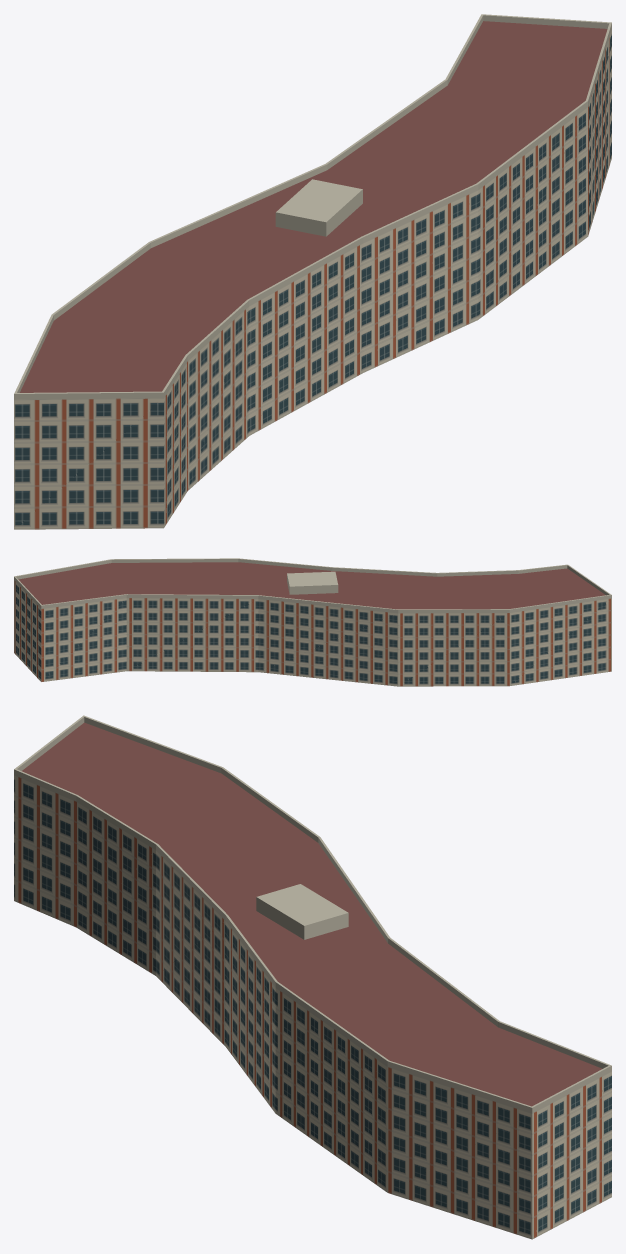
The picture shows the model from 3 angles, top to bottom: view 1: azimuth 30°, elevation 25°; view 2: azimuth 150°, elevation 25°; view 3: azimuth 270°, elevation 25°; orthographic projection. The views are drawn at different scales.
Visible parts, largest first — view 1: B08_dorm, B08_dorm_parapet, B08_dorm_plant; view 2: B08_dorm, B08_dorm_parapet, B08_dorm_plant; view 3: B08_dorm, B08_dorm_parapet, B08_dorm_plant.
Boxes of the visible parts, x1,y1,x2,y2 form: B08_dorm: (14, 21, 611, 529); B08_dorm_parapet: (14, 14, 611, 399); B08_dorm_plant: (275, 179, 362, 236); B08_dorm: (14, 562, 611, 686); B08_dorm_parapet: (14, 558, 611, 613); B08_dorm_plant: (287, 571, 338, 594); B08_dorm: (14, 722, 611, 1239); B08_dorm_parapet: (14, 715, 611, 1113); B08_dorm_plant: (256, 884, 348, 939).
Size of the model in its own units: 120 by 20 by 77.37.
Materials: 3 (1 with a texture image).
